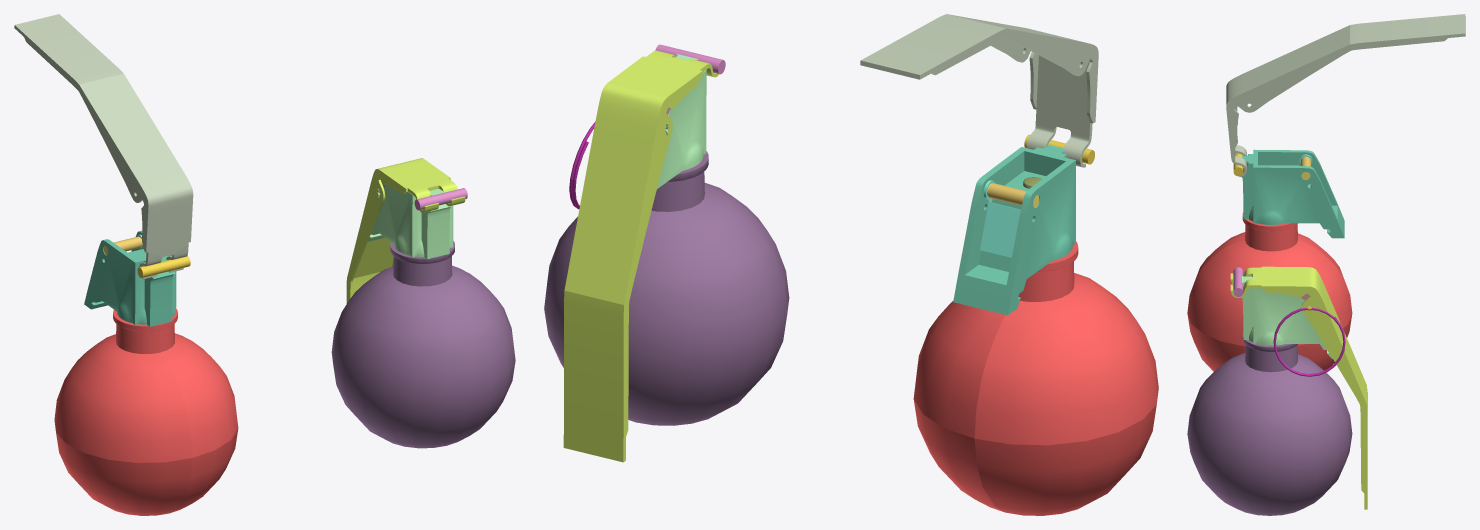
3 views of the same model, side by side, from view 1: azimuth 30°, elevation 25°; view 2: azimuth 150°, elevation 25°; view 3: azimuth 270°, elevation 25° (orthographic). The views are drawn at different scales.
Parts seen in each view (by area): view 1: split_parent_9, Body_lowTris__0, split_parent_11, Fuze_lowTris.001__0.001, split_parent_2, Fuze_lowTris__0.001, Fuze_lowTris.001__0; view 2: split_parent_9, Body_lowTris__0, split_parent_2, split_parent_11, Fuze_lowTris.001__0.001, Fuze_lowTris__0.001, split_parent_12; view 3: Body_lowTris__0, split_parent_9, split_parent_11, Fuze_lowTris.001__0.001, split_parent_2, Fuze_lowTris__0.001, split_parent_5.
Boxes of the visible parts, box(x1,y1,x2,y2) form: split_parent_9: box(54, 308, 238, 515); Body_lowTris__0: box(331, 241, 515, 448); split_parent_11: box(14, 14, 193, 279); Fuze_lowTris.001__0.001: box(84, 230, 176, 326); split_parent_2: box(346, 158, 465, 303); Fuze_lowTris__0.001: box(367, 179, 453, 259); Fuze_lowTris.001__0: box(137, 256, 190, 277); split_parent_9: box(913, 241, 1158, 515); Body_lowTris__0: box(544, 151, 789, 425); split_parent_2: box(563, 50, 719, 462); split_parent_11: box(860, 14, 1098, 167); Fuze_lowTris.001__0.001: box(953, 144, 1075, 315); Fuze_lowTris__0.001: box(657, 54, 706, 188); split_parent_12: box(980, 180, 1024, 257); Body_lowTris__0: box(1187, 332, 1352, 515); split_parent_9: box(1187, 212, 1352, 371); split_parent_11: box(1226, 14, 1465, 177); Fuze_lowTris.001__0.001: box(1241, 149, 1344, 238); split_parent_2: box(1230, 266, 1367, 509); Fuze_lowTris__0.001: box(1241, 276, 1332, 358); split_parent_5: box(1273, 307, 1345, 376).
Bounding box in the file's own units: 1 × 0.8897 × 0.6175.
